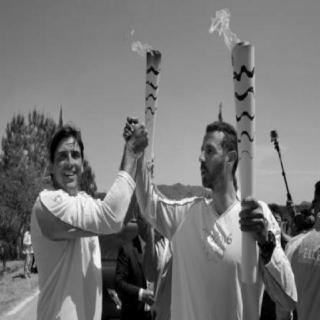Fire: (203, 6, 249, 56)
